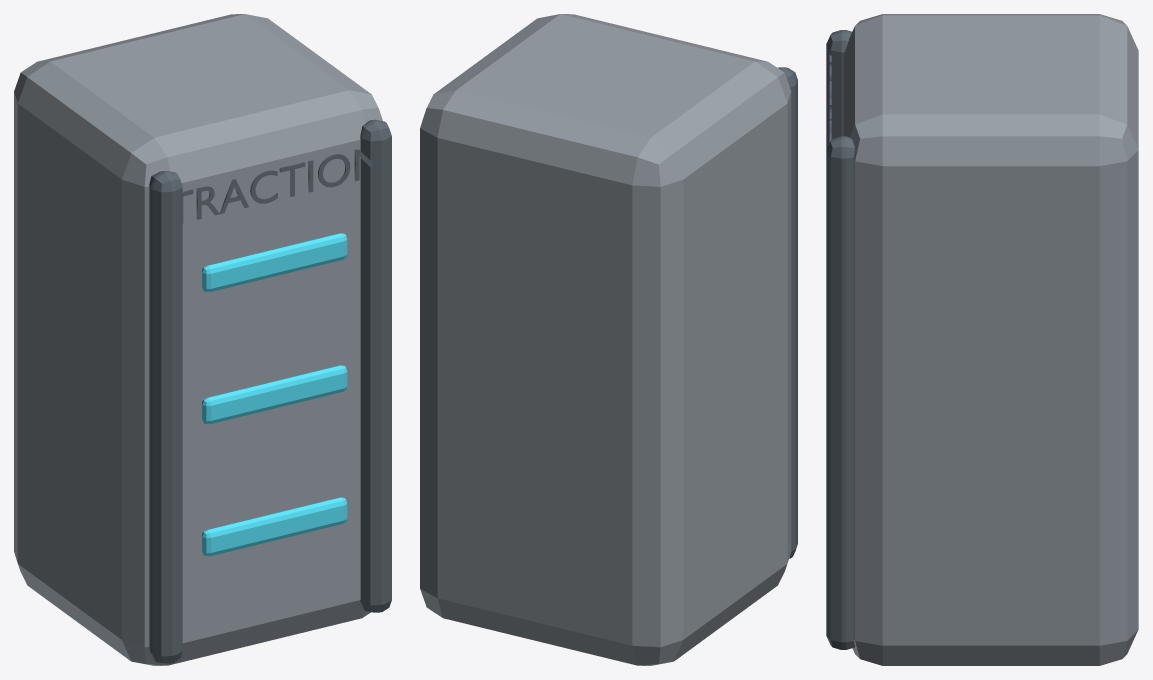
Rendered from 5_Volatile.fbx.
3 renders of one model, left to right at view 1: azimuth 30°, elevation 25°; view 2: azimuth 150°, elevation 25°; view 3: azimuth 270°, elevation 25°, orthographic. The views are drawn at different scales.
Parts seen in each view (by area): view 1: Body; view 2: Body; view 3: Body.
Part boxes in pixels (x1=…): Body: x1=14, y1=14, x2=391, y2=665; Body: x1=420, y1=14, x2=797, y2=665; Body: x1=826, y1=14, x2=1138, y2=665.
Bounding box in the file's own units: 0.72 × 1.4 × 0.72.
